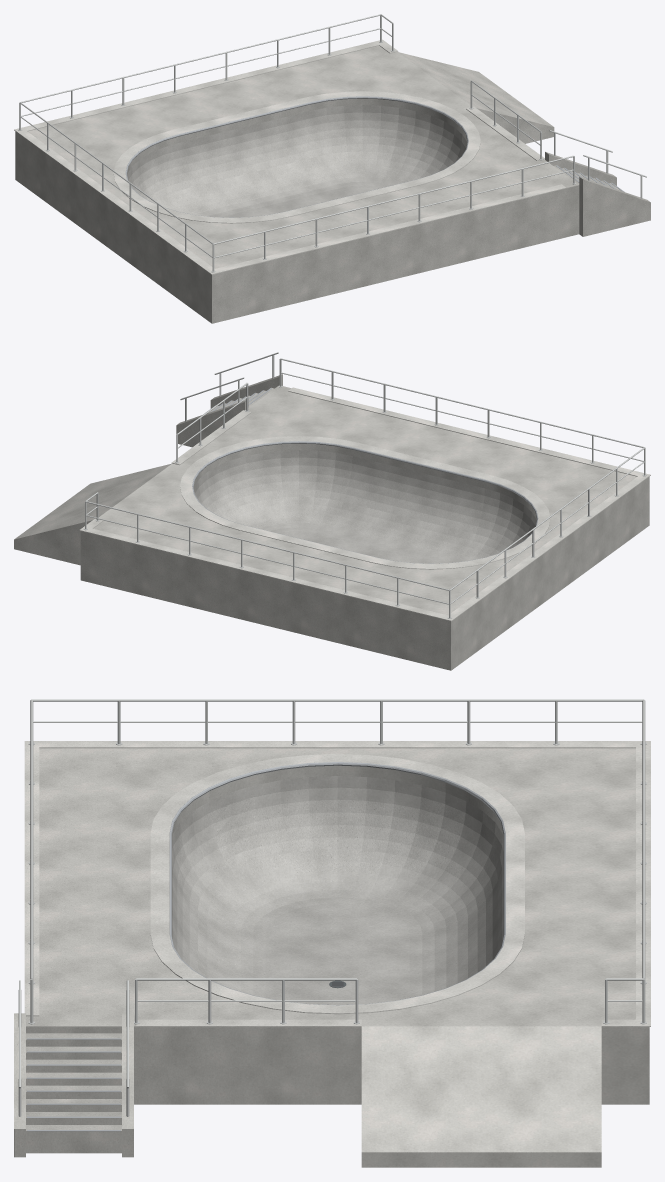
File: deck.glb
3 renders of one model, top to bottom at view 1: azimuth 30°, elevation 25°; view 2: azimuth 150°, elevation 25°; view 3: azimuth 270°, elevation 25°, orthographic. The views are drawn at different scales.
Parts seen in each view (by area): view 1: deck_slab, deck_concrete, deck_bowl, deck_coping, deck_galv, deck_steel; view 2: deck_slab, deck_concrete, deck_bowl, deck_coping, deck_galv, deck_steel; view 3: deck_slab, deck_bowl, deck_concrete, deck_coping, deck_galv, deck_steel.
Part boxes in pixels (x1,y1,x2,y2): deck_slab: [28, 46, 578, 274]; deck_concrete: [15, 98, 650, 323]; deck_bowl: [127, 105, 467, 217]; deck_coping: [14, 39, 566, 274]; deck_galv: [18, 14, 646, 272]; deck_steel: [125, 96, 624, 217]; deck_slab: [14, 385, 636, 619]; deck_concrete: [80, 374, 649, 670]; deck_bowl: [193, 450, 536, 563]; deck_coping: [79, 387, 650, 621]; deck_galv: [83, 352, 646, 618]; deck_steel: [192, 388, 538, 563]; deck_slab: [26, 748, 649, 1167]; deck_bowl: [172, 776, 503, 1004]; deck_concrete: [14, 765, 649, 1157]; deck_coping: [24, 741, 650, 1026]; deck_galv: [18, 699, 646, 1116]; deck_steel: [27, 762, 505, 1131].
Size of the model in its own units: 17.13 by 3.56 by 13.28.
Materials: 8 (4 with a texture image).
